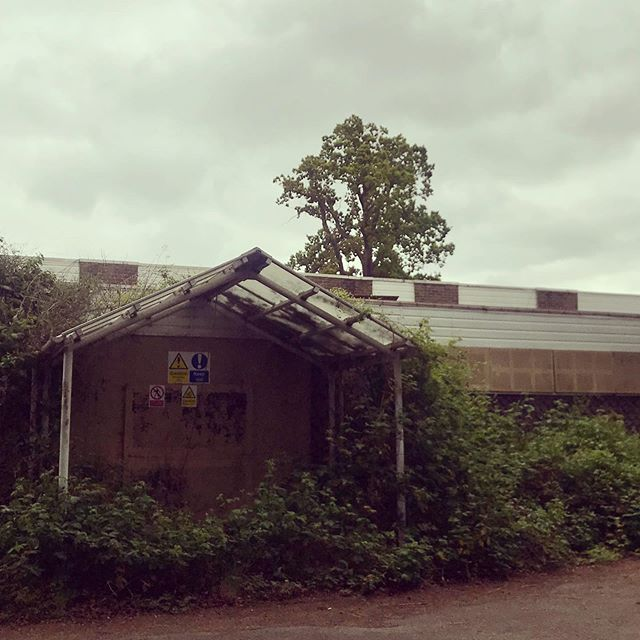building: (1, 275, 636, 512)
sky: (4, 1, 640, 266)
tree: (279, 112, 455, 275)
